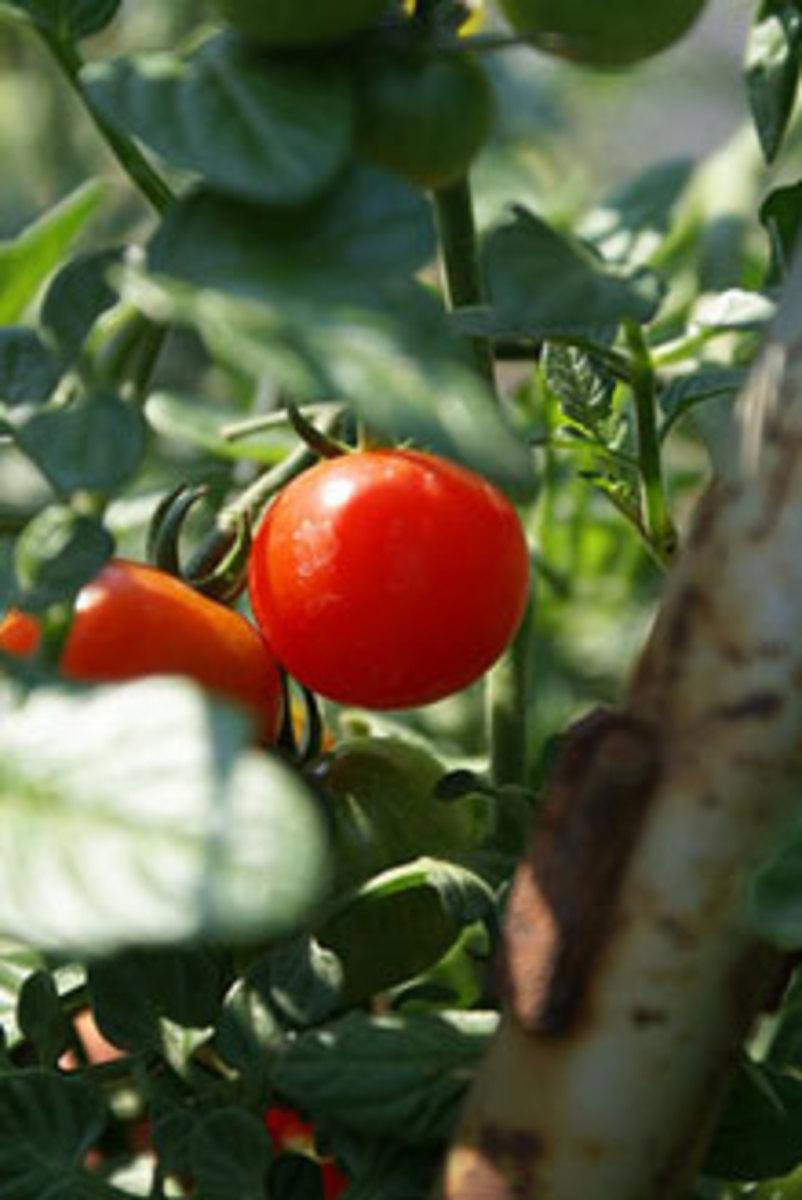tomato: (245, 436, 531, 711), (0, 555, 287, 751), (301, 714, 492, 893), (197, 747, 335, 946), (95, 1101, 351, 1199), (491, 0, 714, 73), (58, 1003, 154, 1159), (196, 0, 411, 52), (7, 1003, 131, 1077), (262, 1102, 350, 1199), (0, 0, 125, 42), (64, 1004, 130, 1071)
